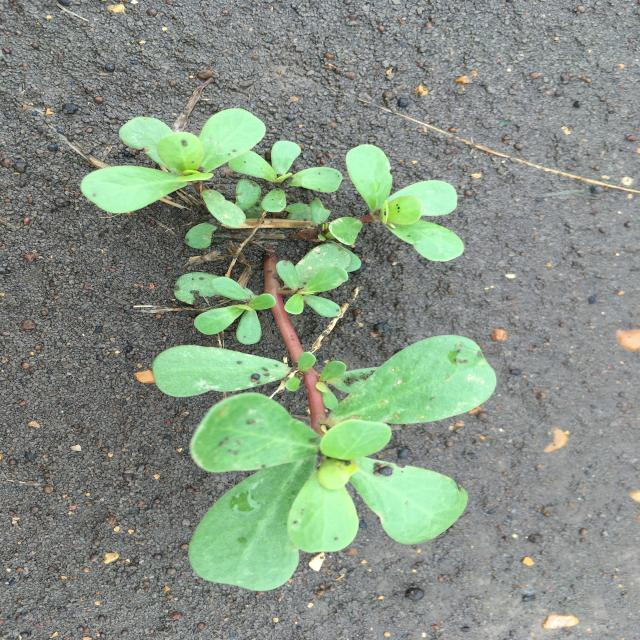Purslane: (81, 108, 498, 592)
